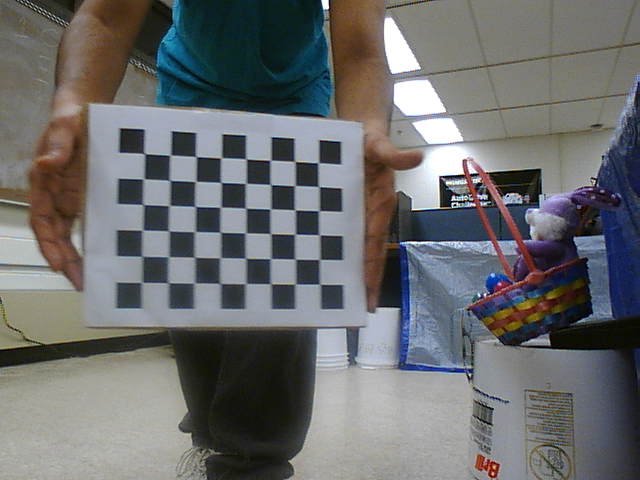bunny: (458, 149, 607, 351)
